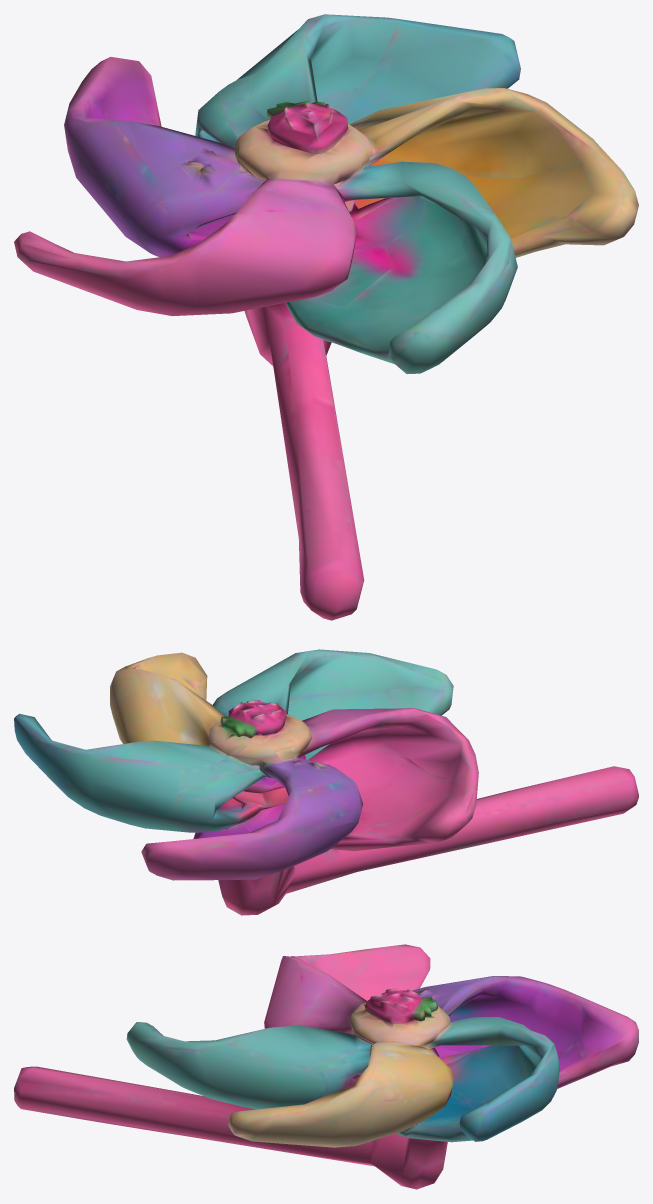
3 views of the same model, one above another, from view 1: azimuth 30°, elevation 25°; view 2: azimuth 150°, elevation 25°; view 3: azimuth 270°, elevation 25° (orthographic). The views are drawn at different scales.
Visible parts, largest first — view 1: material; view 2: material; view 3: material.
Boxes of the visible parts, box(x1,y1,x2,y2) form: material: box(14, 14, 638, 620); material: box(14, 649, 638, 915); material: box(14, 944, 638, 1189).
Size of the model in its own units: 0.739 by 0.3446 by 1.
Materials: 1 (1 with a texture image).
